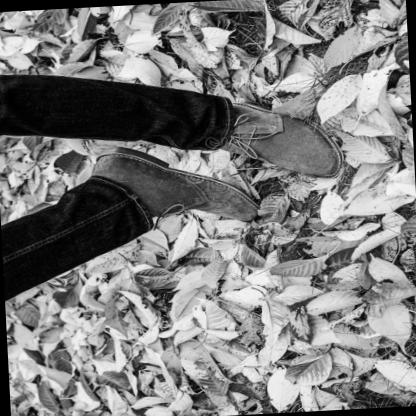ankle: (127, 194, 135, 200), (228, 107, 236, 111)
heel: (112, 156, 120, 162), (245, 104, 251, 108)
left_foot: (196, 87, 348, 183)
pinky: (319, 139, 325, 143), (232, 216, 234, 218)
right_foot: (89, 144, 255, 230)
toe: (312, 169, 318, 172), (249, 208, 253, 211)
